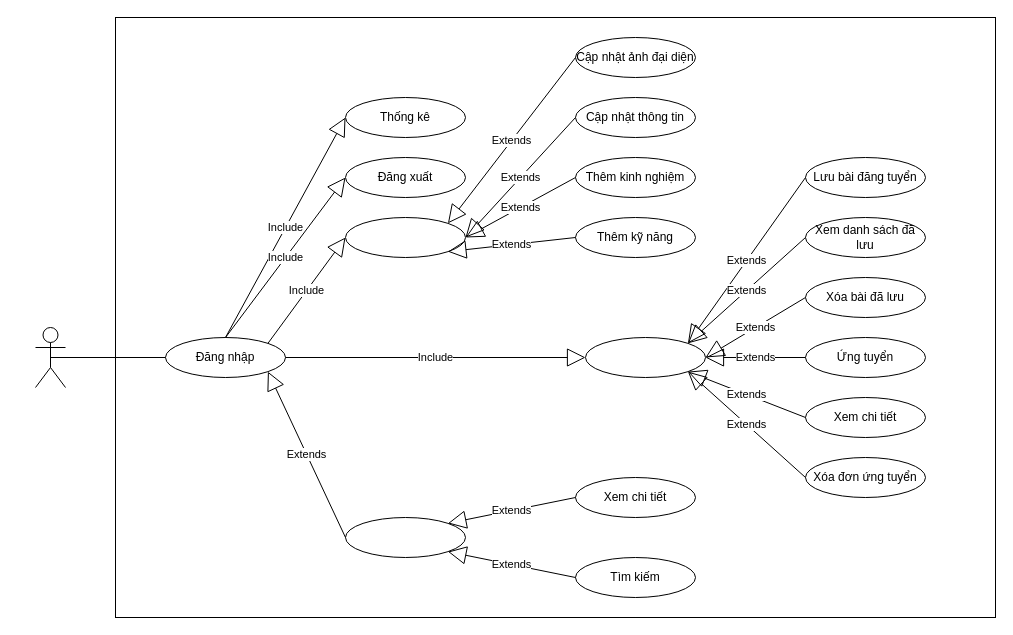
The diagram is 1013 pixels wide and 635 high, and some of its shapes have lost their labels. Here are the shapes that lost their labels. From the top down, the centre of each, then its label:
[405,237]: Quản lý thông tin
[50,357]: Ứng cử viên
[645,357]: Quản lý ứng tuyển
[405,537]: Bài viết
